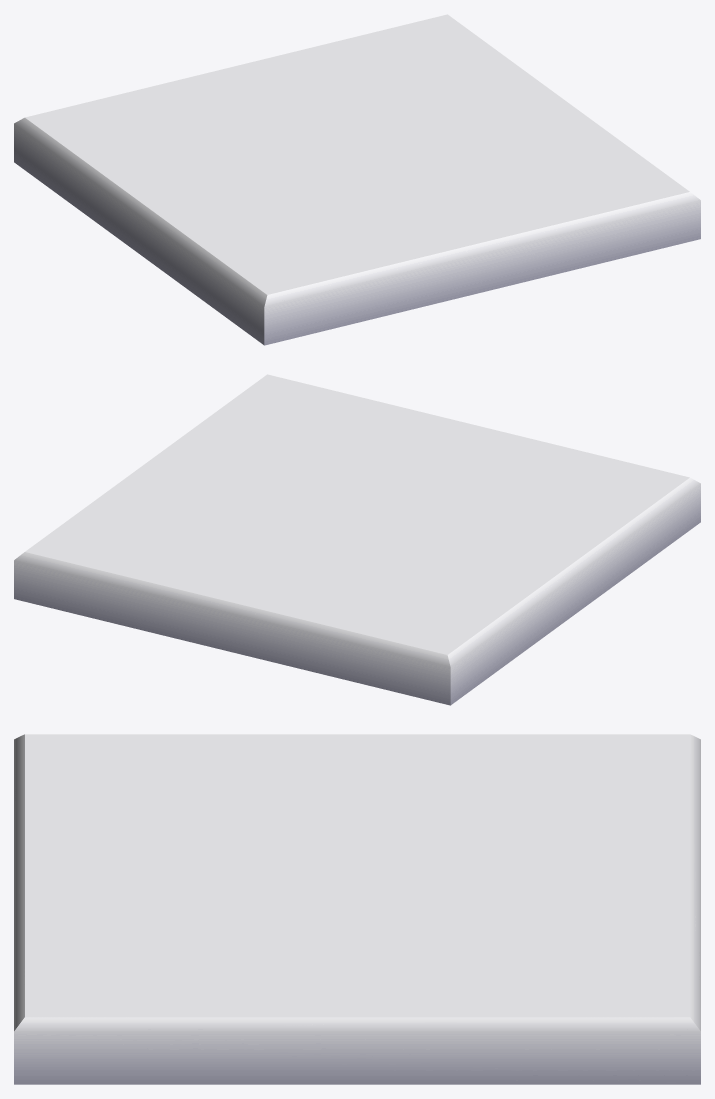
Rendered from none-hq-plate-4x4.glb.
The picture shows the model from 3 angles, top to bottom: view 1: azimuth 30°, elevation 25°; view 2: azimuth 150°, elevation 25°; view 3: azimuth 270°, elevation 25°; orthographic projection. The views are drawn at different scales.
Visible parts, largest first — view 1: none-hq-plate-4x4; view 2: none-hq-plate-4x4; view 3: none-hq-plate-4x4.
Part boxes in pixels (x1=…): none-hq-plate-4x4: x1=14, y1=14, x2=700, y2=345; none-hq-plate-4x4: x1=14, y1=374, x2=700, y2=705; none-hq-plate-4x4: x1=14, y1=734, x2=700, y2=1084.
Bounding box in the file's own units: 1.59 × 0.16 × 1.58.
Materials: 1 (1 with a texture image).
